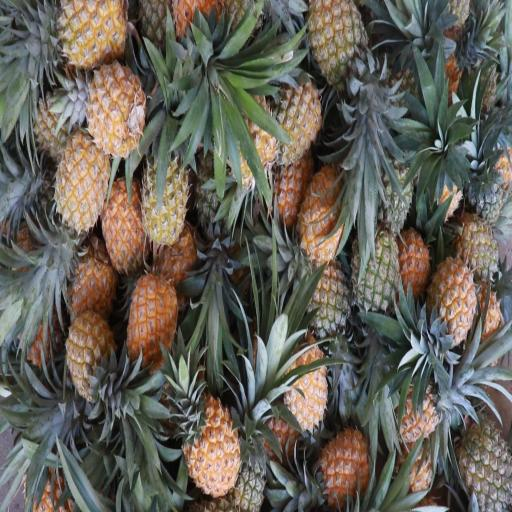------------------------------: (304, 0, 373, 98), (294, 233, 351, 340), (139, 134, 189, 249), (452, 198, 501, 291)
Pineapple - v8 v1: (177, 378, 240, 499), (80, 46, 142, 159), (45, 125, 107, 237), (269, 308, 328, 425), (35, 0, 129, 72), (293, 153, 351, 269), (312, 416, 378, 510), (124, 260, 180, 368), (427, 244, 478, 360), (266, 66, 320, 163), (100, 165, 152, 265), (63, 308, 113, 406)
